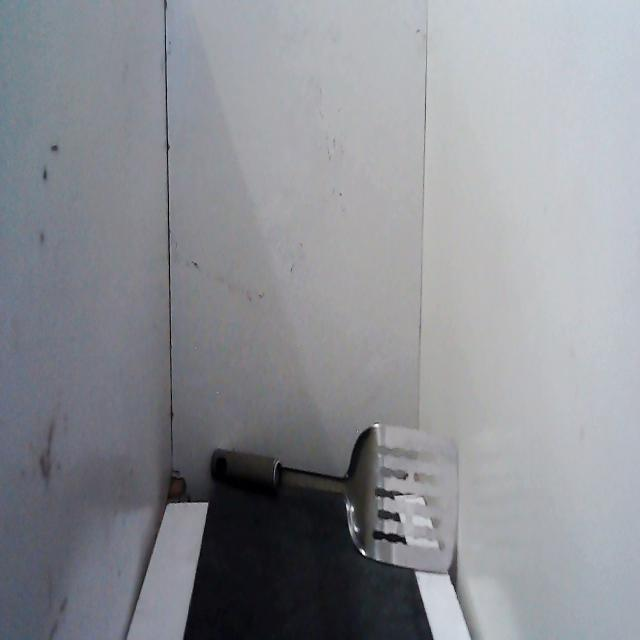metal: (205, 412, 462, 582)
